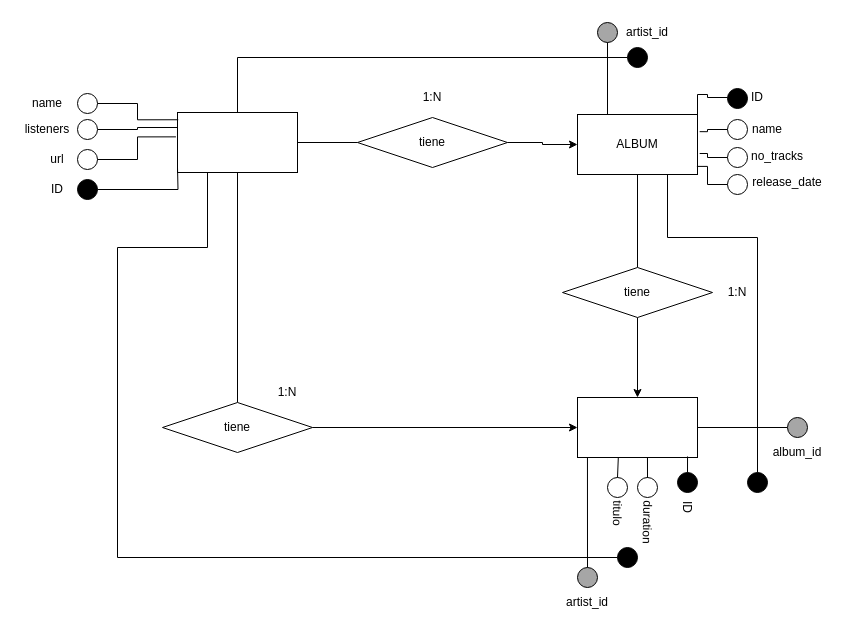
Some shapes in this 844 by 634 pixel diagram are drawn without their labels. The shapes that lost their labels are listed below. From the top down, each one's centre as x and y in pixels, then its label:
the point at 237,142: ARTISTA
the point at 637,427: TRACK
